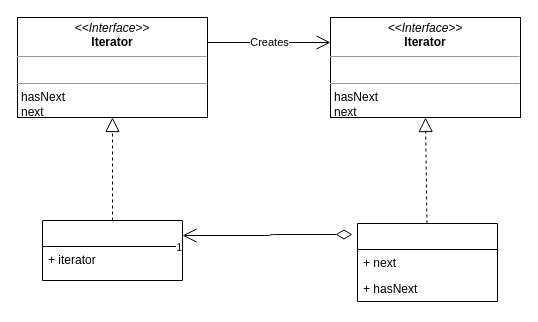
The diagram is 538 pixels wide and 322 high, and some of its shapes have lost their labels. Each missing label, with the box of its shape:
ConcreteAggregate: (42, 220, 182, 280)
ConcreteIterator: (356, 222, 498, 302)
